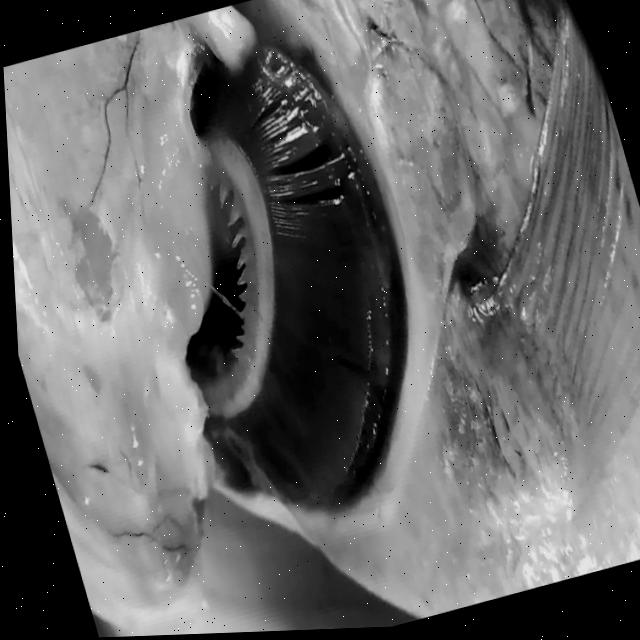Fresh: (47, 0, 506, 581)
